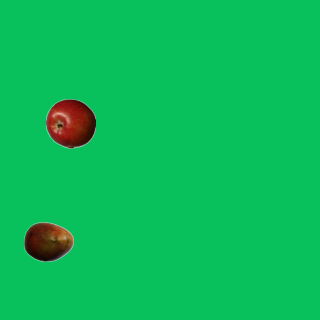Apple Braeburn: (45, 98, 95, 148)
Mango Red: (23, 216, 73, 266)
